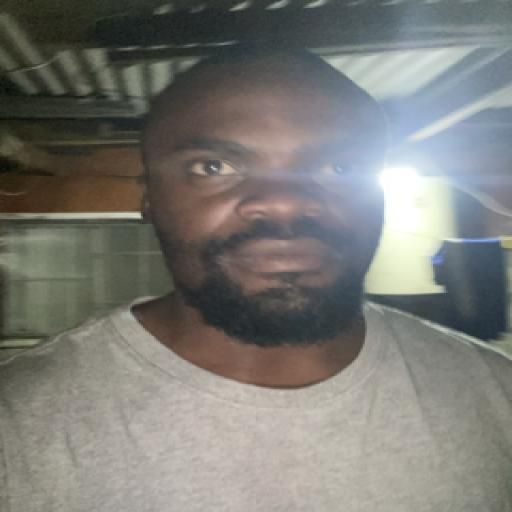JEANLUC: (110, 56, 384, 347)
